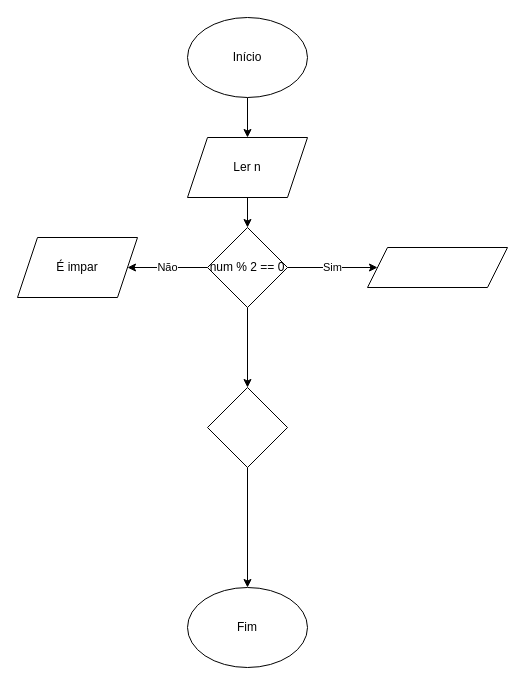
Image size: 525x685. Some labels were removed from this diagram. The box of each missing label's shape, as (x1, y1, x2, y2) in pixels:
N == 0: (206, 386, 288, 468)
É par: (366, 246, 508, 288)
